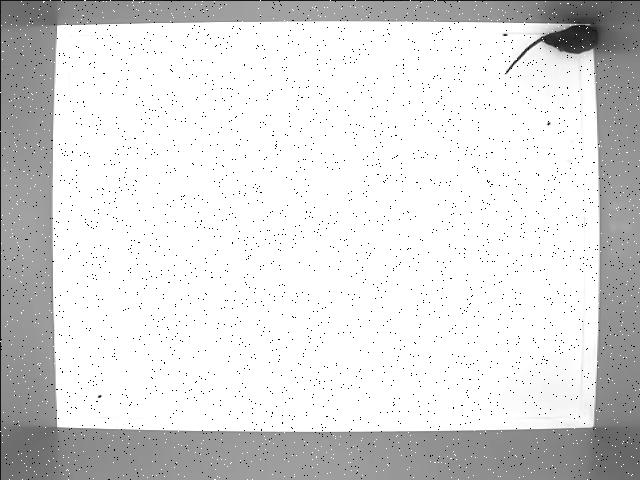Tikus: (503, 22, 597, 76)
